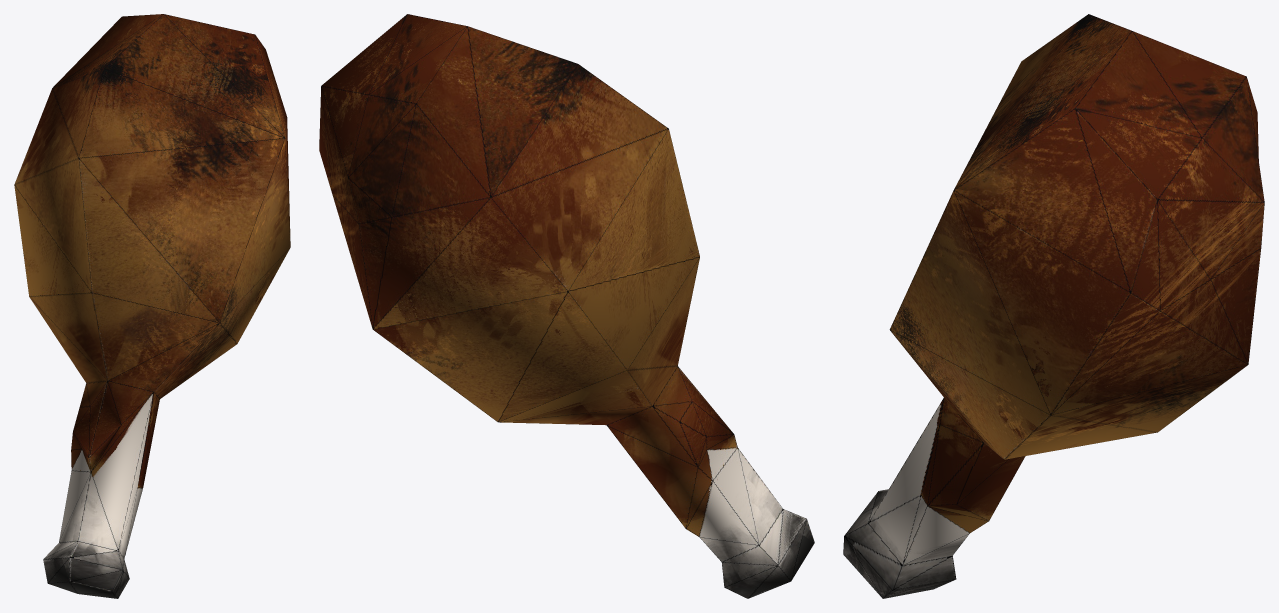
Rendered from turkeyleg3dpaint.obj.
3 renders of one model, left to right at view 1: azimuth 30°, elevation 25°; view 2: azimuth 150°, elevation 25°; view 3: azimuth 270°, elevation 25°, orthographic. The views are drawn at different scales.
Visible parts, largest first — view 1: Group1888; view 2: Group1888; view 3: Group1888.
Boxes of the visible parts, box(x1,y1,x2,y2) form: Group1888: box(14, 14, 290, 598); Group1888: box(319, 14, 814, 598); Group1888: box(843, 14, 1264, 598).
Bounding box in the file's own units: 0.6353 × 0.9412 × 0.5415.
Materials: 1 (1 with a texture image).
